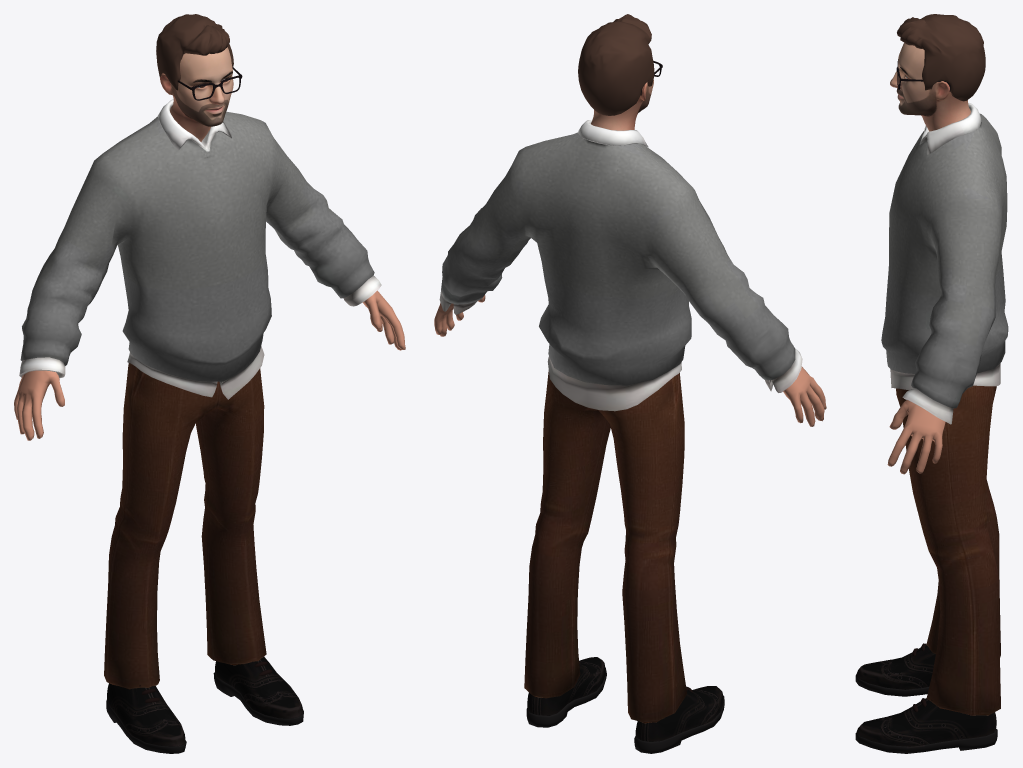
Rendered from CharacterwithoutAnimTest2.gltf.
The picture shows the model from 3 angles, left to right: view 1: azimuth 30°, elevation 25°; view 2: azimuth 150°, elevation 25°; view 3: azimuth 270°, elevation 25°; orthographic projection.
Visible parts, largest first — view 1: Wolf3D_Outfit_Top, Wolf3D_Outfit_Bottom, Wolf3D_Outfit_Footwear, Wolf3D_Head, Wolf3D_Body, Wolf3D_Hair; view 2: Wolf3D_Outfit_Top, Wolf3D_Outfit_Bottom, Wolf3D_Hair, Wolf3D_Outfit_Footwear, Wolf3D_Body, Wolf3D_Head; view 3: Wolf3D_Outfit_Top, Wolf3D_Outfit_Bottom, Wolf3D_Outfit_Footwear, Wolf3D_Hair, Wolf3D_Head, Wolf3D_Body.
Part boxes in pixels (x1,y1,x2,y2): Wolf3D_Outfit_Top: (19, 99, 381, 399); Wolf3D_Outfit_Bottom: (104, 363, 266, 689); Wolf3D_Outfit_Footwear: (106, 656, 303, 753); Wolf3D_Head: (160, 47, 233, 141); Wolf3D_Body: (14, 290, 405, 440); Wolf3D_Hair: (156, 14, 233, 90); Wolf3D_Outfit_Top: (439, 120, 802, 411); Wolf3D_Outfit_Bottom: (524, 370, 686, 723); Wolf3D_Hair: (578, 14, 654, 115); Wolf3D_Outfit_Footwear: (526, 657, 724, 753); Wolf3D_Body: (434, 295, 826, 426); Wolf3D_Head: (591, 80, 653, 130); Wolf3D_Outfit_Top: (881, 102, 1008, 424); Wolf3D_Outfit_Bottom: (896, 385, 1000, 715); Wolf3D_Outfit_Footwear: (855, 643, 997, 753); Wolf3D_Hair: (897, 14, 985, 101); Wolf3D_Head: (890, 43, 970, 131); Wolf3D_Body: (887, 400, 945, 474).
Size of the model in its own units: 1.06 by 1.86 by 0.3697.
Materials: 9 (9 with a texture image).
